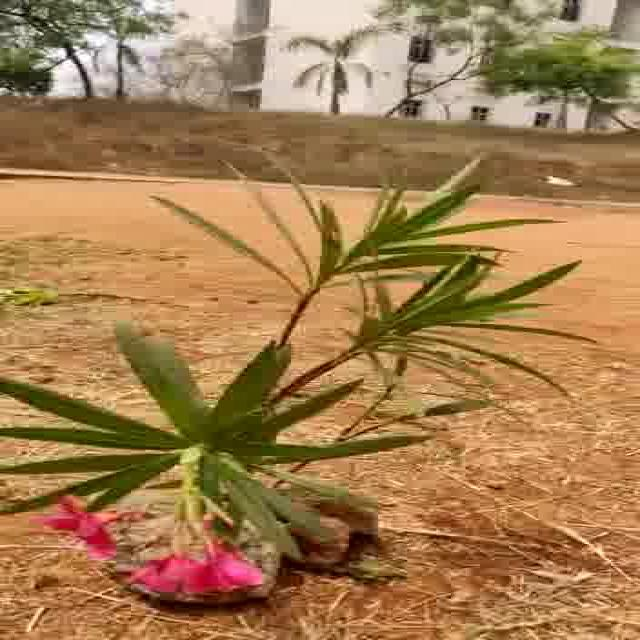Oleander: (1, 169, 580, 559)
